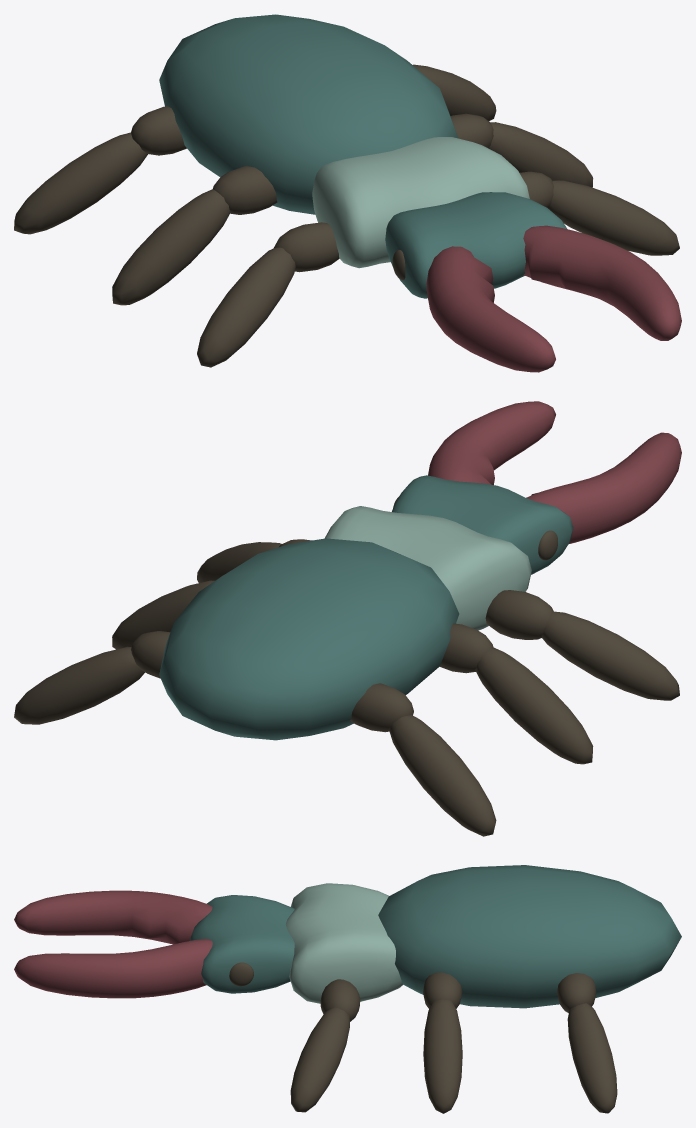
Rendered from Bug.fbx.
3 views of the same model, one above another, from view 1: azimuth 30°, elevation 25°; view 2: azimuth 150°, elevation 25°; view 3: azimuth 270°, elevation 25° (orthographic). The views are drawn at different scales.
Visible parts, largest first — view 1: Beetle, Beetle.007, Beetle.005, Beetle.004, Beetle.006, Beetle.001, Beetle.002, Beetle.003; view 2: Beetle, Beetle.007, Beetle.006, Beetle.004, Beetle.005, Beetle.003, Beetle.002, Beetle.001; view 3: Beetle, Beetle.007, Beetle.003, Beetle.001, Beetle.002.
Part boxes in pixels (x1,y1,x2,y2): Beetle: [159, 14, 567, 298]; Beetle.007: [426, 225, 681, 372]; Beetle.005: [112, 166, 277, 305]; Beetle.004: [14, 106, 186, 234]; Beetle.006: [197, 222, 339, 367]; Beetle.001: [520, 171, 679, 255]; Beetle.002: [450, 113, 593, 187]; Beetle.003: [413, 64, 496, 120]; Beetle: [159, 475, 573, 740]; Beetle.007: [428, 401, 681, 543]; Beetle.006: [485, 590, 679, 700]; Beetle.004: [350, 683, 496, 836]; Beetle.005: [439, 623, 593, 764]; Beetle.003: [14, 631, 170, 724]; Beetle.002: [112, 575, 223, 649]; Beetle.001: [197, 539, 311, 582]; Beetle: [189, 865, 681, 1008]; Beetle.007: [14, 890, 212, 998]; Beetle.003: [557, 973, 617, 1113]; Beetle.001: [290, 979, 360, 1112]; Beetle.002: [423, 972, 462, 1113].
Size of the model in its own units: 517 by 171 by 752.
